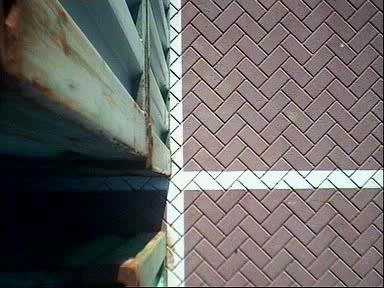groundmarker_2: (305, 3, 359, 40), (304, 38, 358, 75), (305, 172, 359, 209)
